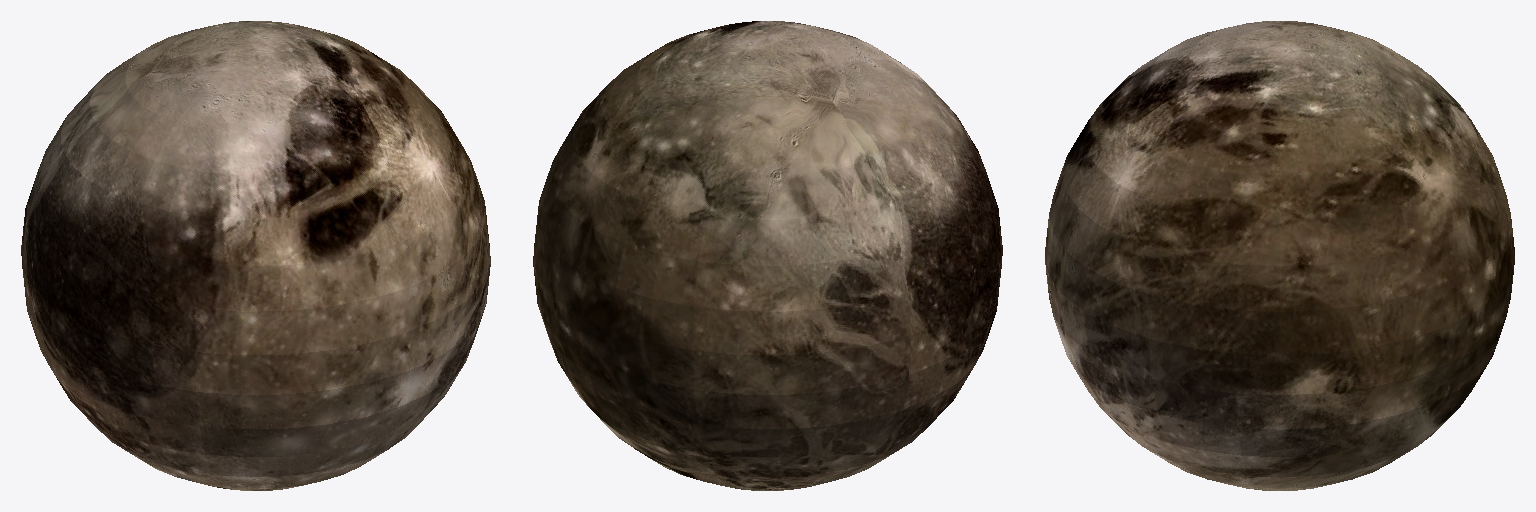
The picture shows the model from 3 angles: view 1: azimuth 30°, elevation 25°; view 2: azimuth 150°, elevation 25°; view 3: azimuth 270°, elevation 25°; orthographic projection.
Visible parts, largest first — view 1: Sphere; view 2: Sphere; view 3: Sphere.
Boxes of the visible parts, <box> form: Sphere: <box>21,21,490,490</box>; Sphere: <box>533,21,1002,490</box>; Sphere: <box>1045,21,1514,490</box>.
Size of the model in its own units: 2 by 2 by 2.
Materials: 1 (1 with a texture image).